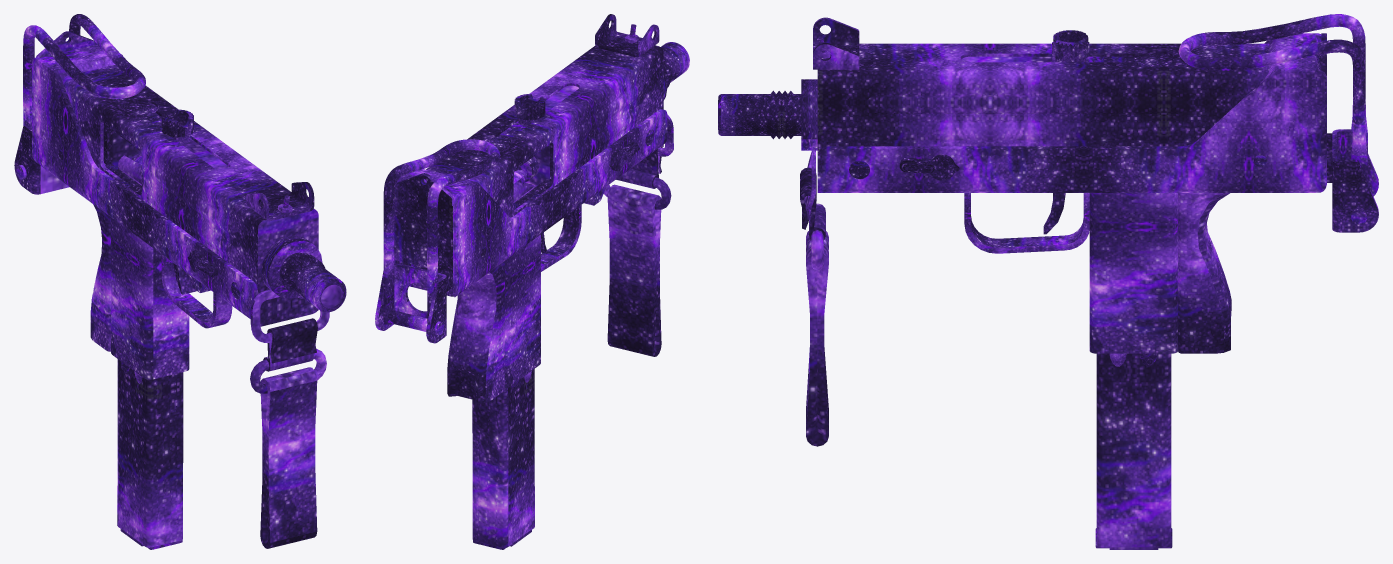
The model's file is dark_matter_mac-10.glb.
3 views of the same model, side by side, from view 1: azimuth 30°, elevation 25°; view 2: azimuth 150°, elevation 25°; view 3: azimuth 270°, elevation 25° (orthographic). The views are drawn at different scales.
Visible parts, largest first — view 1: Object_2; view 2: Object_2; view 3: Object_2.
Boxes of the visible parts, x1,y1,x2,y2 form: Object_2: [14, 14, 346, 549]; Object_2: [375, 14, 689, 549]; Object_2: [718, 14, 1378, 549].
Size of the model in its own units: 0.0485 by 0.2386 by 0.2792.
Materials: 1 (1 with a texture image).
